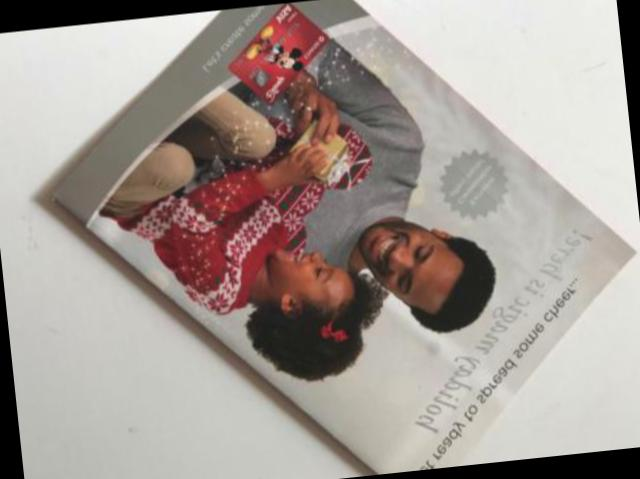cardboard paper: (55, 0, 634, 474)
